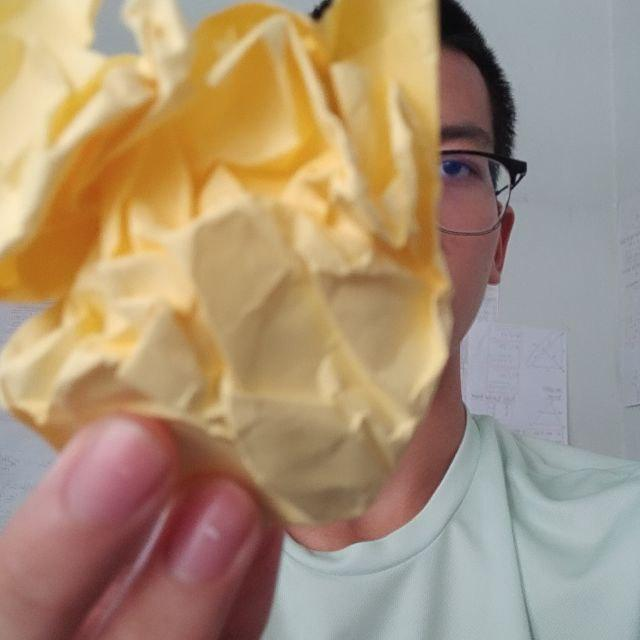paper: (0, 0, 485, 529)
